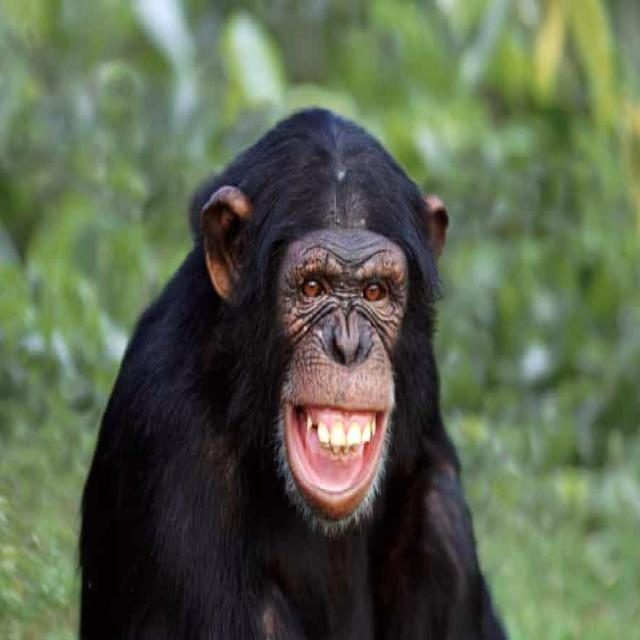chimpanzee: (79, 108, 508, 639)
